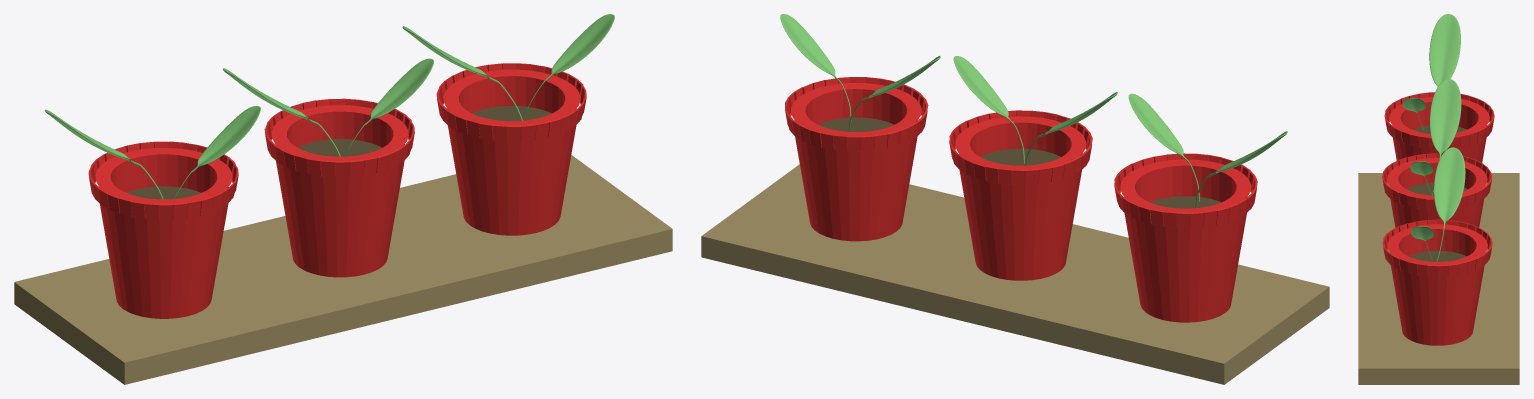
Rendered from plantjes1.fbx.
3 views of the same model, side by side, from view 1: azimuth 30°, elevation 25°; view 2: azimuth 150°, elevation 25°; view 3: azimuth 270°, elevation 25° (orthographic). The views are drawn at different scales.
Visible parts, largest first — view 1: Cube, Cylinder, Cylinder.003, Cylinder.004, Cylinder.005, Cylinder.001, Cylinder.002, Circle.004, Circle.005, Circle.001, Cylinder.007, Cylinder.008 (+4 smaller); view 2: Cube, Cylinder, Cylinder.003, Cylinder.004, Cylinder.001, Cylinder.005, Cylinder.002, Circle.001, Circle.004, Circle.005, Cylinder.007, Cylinder.008 (+4 smaller); view 3: Cube, Cylinder.004, Cylinder.003, Cylinder, Cylinder.005, Circle.003, Circle.002, Circle, Cylinder.001, Cylinder.002, Cylinder.008, Circle.004 (+3 smaller).
Part boxes in pixels (x1,y1,x2,y2): Cube: [14, 155, 672, 384]; Cylinder: [95, 148, 232, 318]; Cylinder.003: [271, 105, 408, 277]; Cylinder.004: [443, 69, 580, 235]; Cylinder.005: [436, 63, 586, 142]; Cylinder.001: [88, 141, 238, 220]; Cylinder.002: [264, 98, 414, 177]; Circle.004: [345, 58, 433, 156]; Circle.005: [524, 14, 614, 115]; Circle.001: [174, 106, 260, 198]; Cylinder.007: [298, 139, 381, 156]; Cylinder.008: [472, 105, 551, 121]; Cube: [701, 164, 1329, 384]; Cylinder: [1120, 159, 1251, 322]; Cylinder.003: [955, 116, 1086, 280]; Cylinder.004: [791, 83, 921, 241]; Cylinder.001: [1114, 153, 1257, 228]; Cylinder.005: [785, 77, 928, 151]; Cylinder.002: [949, 110, 1092, 185]; Circle.001: [1128, 93, 1199, 201]; Circle.004: [953, 56, 1024, 163]; Circle.005: [780, 14, 851, 121]; Cylinder.007: [980, 148, 1060, 165]; Cylinder.008: [818, 117, 894, 131]; Cube: [1358, 173, 1519, 384]; Cylinder.004: [1387, 224, 1487, 345]; Cylinder.003: [1387, 158, 1487, 227]; Cylinder: [1389, 97, 1489, 162]; Cylinder.005: [1382, 219, 1492, 277]; Circle.003: [1434, 147, 1465, 261]; Circle.002: [1429, 79, 1461, 195]; Circle: [1429, 14, 1460, 133]; Cylinder.001: [1384, 92, 1494, 149]; Cylinder.002: [1382, 153, 1492, 210]; Cylinder.008: [1409, 250, 1466, 261]; Circle.004: [1410, 161, 1433, 195].
Size of the model in its own units: 585 by 230 by 198.
